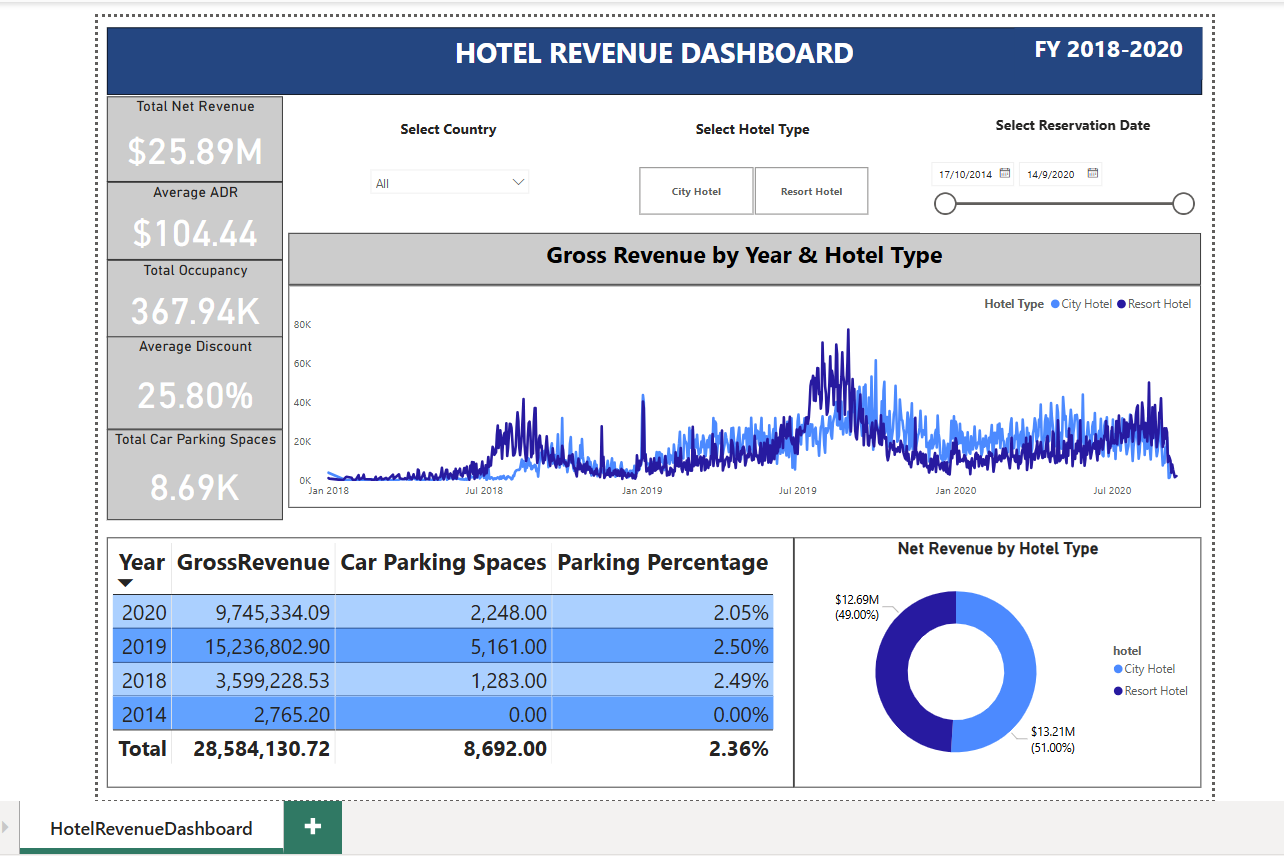

This screenshot's page, from the dashboard's own definition file:
{"tool":"powerbi","page":{"name":"HotelRevenueDashboard","canvas":[1280,900],"ordinal":0},"visuals":[{"type":"textbox","box":[11.1,12.6,1258.4,77.4],"z":0},{"type":"card","title":"Total Net Revenue","fields":{"Values":["Sum(Hotel.NetRevenue)"]},"box":[10.6,91.5,202.1,97.9],"z":1000},{"type":"card","title":"Average ADR","fields":{"Values":["Avg(Hotel.adr)"]},"box":[10.6,189.4,202.1,89.4],"z":2000},{"type":"card","title":"Total Occupancy","fields":{"Values":["Hotel.TotalNights"]},"box":[10.6,278.7,202.1,89.4],"z":3000},{"type":"card","title":"Average Discount","fields":{"Values":["Avg(Hotel.Discount)"]},"box":[10.6,368.1,202.1,106.4],"z":4000},{"type":"textbox","box":[1053.2,12.6,216.3,60],"z":6000},{"type":"textbox","box":[219.1,248.9,1048.9,59.6],"z":7000},{"type":"lineChart","fields":{"Category":["Hotel.reservation_status_date"],"Y":["Sum(Hotel.GrossRevenue)"],"Series":["Hotel.hotel"]},"box":[219.1,308.5,1048.9,255.3],"z":8000},{"type":"slicer","fields":{"Values":["Hotel.hotel"]},"box":[595.7,166,312.8,68.1],"z":9000},{"type":"textbox","box":[676.6,112.8,153.2,34],"z":10000},{"type":"slicer","fields":{"Values":["Hotel.country"]},"box":[304.3,166,202.1,68.1],"z":11000},{"type":"textbox","box":[302.1,112.8,202.1,40.4],"z":12000},{"type":"card","title":"Total Car Parking Spaces","fields":{"Values":["Sum(Hotel.required_car_parking_spaces)"]},"box":[10.6,474.5,202.1,104.3],"z":13000},{"type":"tableEx","fields":{"Values":["Hotel.reservation_status_date.Variation.Date Hierarchy.Year","Sum(Hotel.GrossRevenue)","Sum(Hotel.required_car_parking_spaces)","Hotel.Parking Percentage"]},"box":[10.6,597.9,789.4,287.2],"z":14000},{"type":"slicer","fields":{"Values":["Hotel.reservation_status_date"]},"box":[944.7,157.4,323.4,91.5],"z":14001},{"type":"textbox","box":[993.6,106.4,255.3,46.8],"z":14002},{"type":"donutChart","title":"Net Revenue by Hotel Type","fields":{"Category":["Hotel.hotel"],"Y":["Sum(Hotel.NetRevenue)"]},"box":[800,597.9,468.1,287.2],"z":14003}]}

Visuals, with their boxes on the page's 1280x900 design canvas (x1, y1, x2, y2). These are canvas units, not pixel positions in the 1284x856 screenshot, which may show the page scaled, cropped or inside an application window:
textbox: {"x1": 11, "y1": 13, "x2": 1270, "y2": 90}
"Total Net Revenue" card: {"x1": 11, "y1": 92, "x2": 213, "y2": 189}
"Average ADR" card: {"x1": 11, "y1": 189, "x2": 213, "y2": 279}
"Total Occupancy" card: {"x1": 11, "y1": 279, "x2": 213, "y2": 368}
"Average Discount" card: {"x1": 11, "y1": 368, "x2": 213, "y2": 474}
textbox: {"x1": 1053, "y1": 13, "x2": 1270, "y2": 73}
textbox: {"x1": 219, "y1": 249, "x2": 1268, "y2": 308}
lineChart - Hotel.reservation_status_date x Sum(Hotel.GrossRevenue): {"x1": 219, "y1": 308, "x2": 1268, "y2": 564}
slicer - Hotel.hotel: {"x1": 596, "y1": 166, "x2": 908, "y2": 234}
textbox: {"x1": 677, "y1": 113, "x2": 830, "y2": 147}
slicer - Hotel.country: {"x1": 304, "y1": 166, "x2": 506, "y2": 234}
textbox: {"x1": 302, "y1": 113, "x2": 504, "y2": 153}
"Total Car Parking Spaces" card: {"x1": 11, "y1": 474, "x2": 213, "y2": 579}
tableEx - Hotel.reservation_status_date.Variation.Date Hierarchy.Year x Sum(Hotel.GrossRevenue): {"x1": 11, "y1": 598, "x2": 800, "y2": 885}
slicer - Hotel.reservation_status_date: {"x1": 945, "y1": 157, "x2": 1268, "y2": 249}
textbox: {"x1": 994, "y1": 106, "x2": 1249, "y2": 153}
"Net Revenue by Hotel Type" donutChart: {"x1": 800, "y1": 598, "x2": 1268, "y2": 885}
